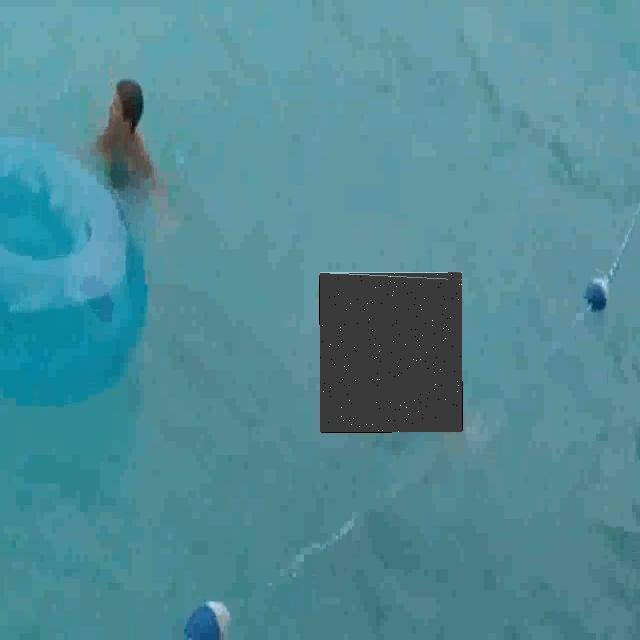Out of Water: (320, 272, 462, 432)
